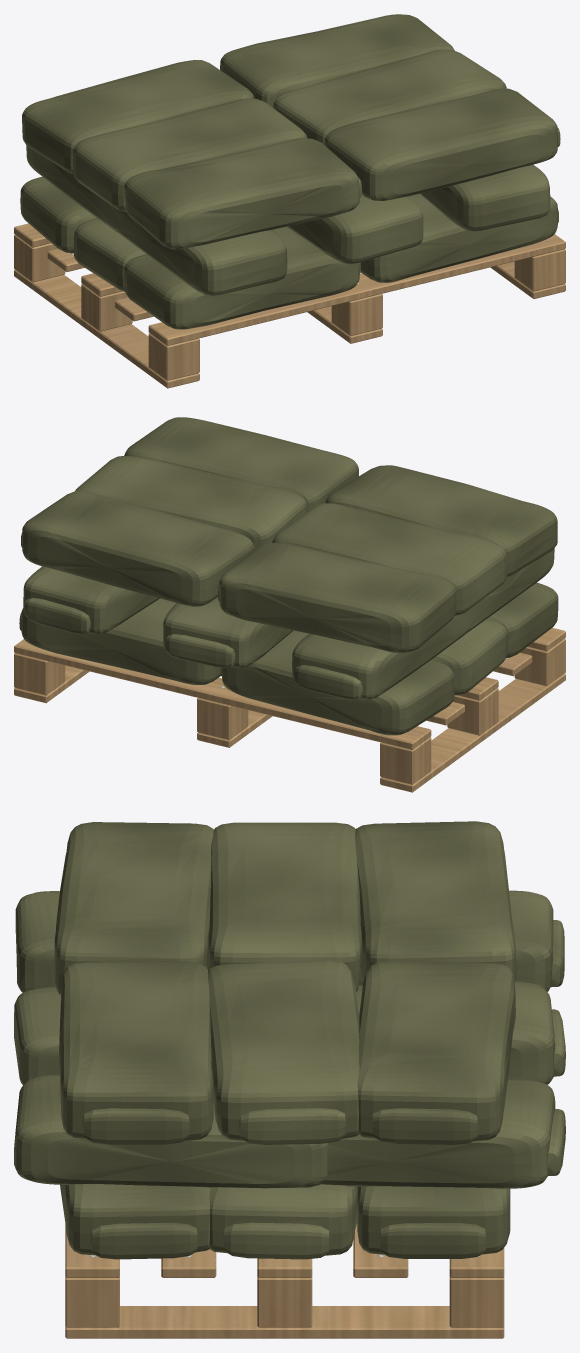
The model's file is pallet_sacos_areia.glb.
3 views of the same model, one above another, from view 1: azimuth 30°, elevation 25°; view 2: azimuth 150°, elevation 25°; view 3: azimuth 270°, elevation 25° (orthographic). The views are drawn at different scales.
Parts seen in each view (by area): view 1: pallet_sacos_areia_camada_3_lona, pallet_sacos_areia_camada_1_lona, pallet_sacos_areia_camada_2_lona, pallet_sacos_areia_madeira_crua; view 2: pallet_sacos_areia_camada_3_lona, pallet_sacos_areia_camada_1_lona, pallet_sacos_areia_camada_2_lona, pallet_sacos_areia_madeira_crua; view 3: pallet_sacos_areia_camada_3_lona, pallet_sacos_areia_camada_2_lona, pallet_sacos_areia_camada_1_lona, pallet_sacos_areia_madeira_crua.
Part boxes in pixels (box(x1,y1,x2,y2)): pallet_sacos_areia_camada_3_lona: box(22, 14, 560, 249); pallet_sacos_areia_camada_1_lona: box(20, 176, 558, 329); pallet_sacos_areia_camada_2_lona: box(26, 145, 550, 295); pallet_sacos_areia_madeira_crua: box(14, 223, 565, 388); pallet_sacos_areia_camada_3_lona: box(21, 417, 557, 652); pallet_sacos_areia_camada_1_lona: box(19, 582, 558, 735); pallet_sacos_areia_camada_2_lona: box(23, 548, 554, 699); pallet_sacos_areia_madeira_crua: box(14, 628, 565, 792); pallet_sacos_areia_camada_3_lona: box(54, 821, 516, 1144); pallet_sacos_areia_camada_2_lona: box(14, 890, 565, 1188); pallet_sacos_areia_camada_1_lona: box(60, 1184, 510, 1259); pallet_sacos_areia_madeira_crua: box(65, 1224, 504, 1338).
Bounding box in the file's own units: 1.21 × 0.5059 × 1.01.
Materials: 3 (2 with a texture image).
